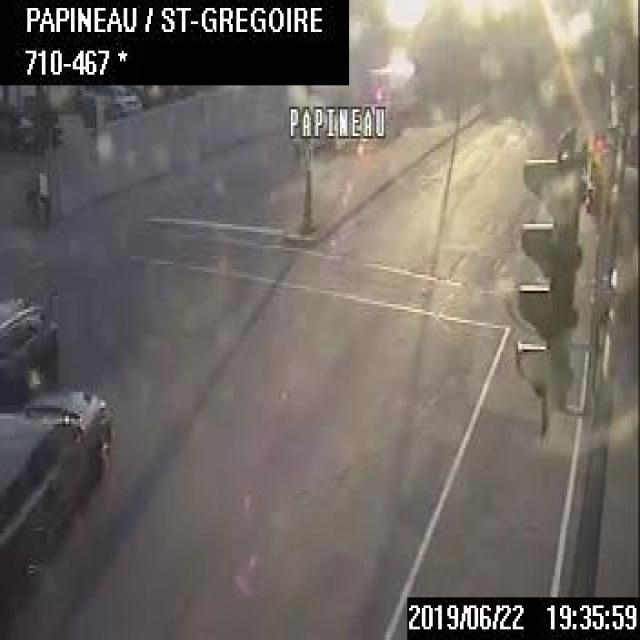vehicle: (0, 387, 113, 621), (0, 292, 58, 401)
